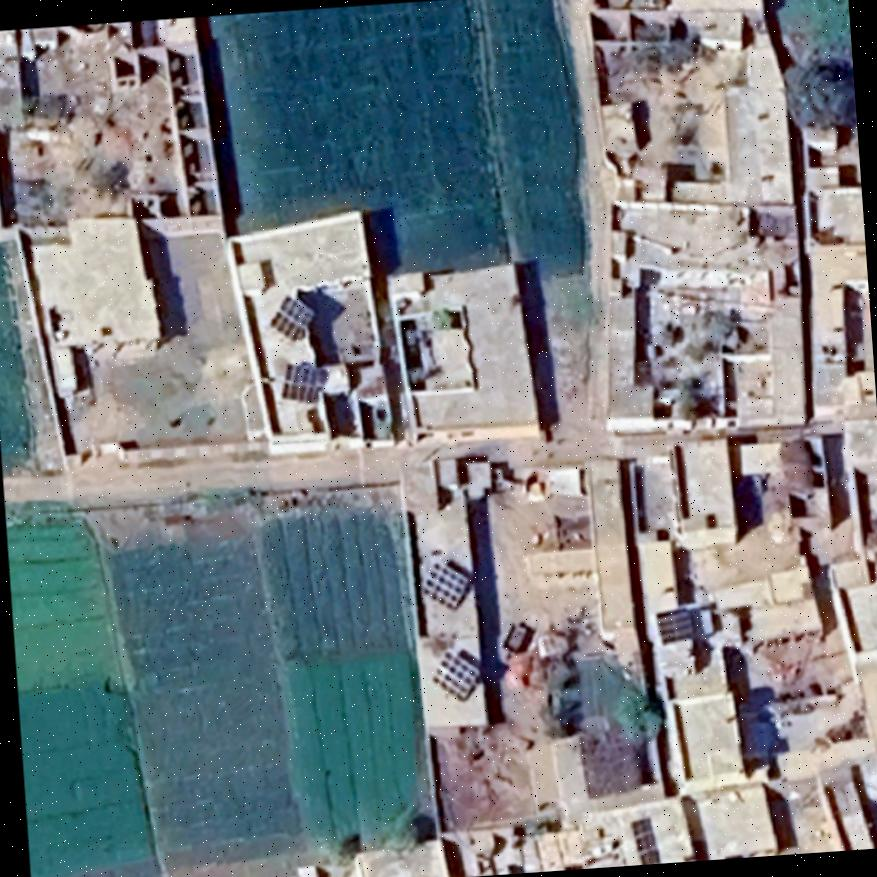Solarpanel: (263, 287, 320, 346), (429, 646, 485, 702), (419, 558, 472, 612), (651, 602, 698, 648), (279, 359, 330, 401), (627, 812, 662, 864)
